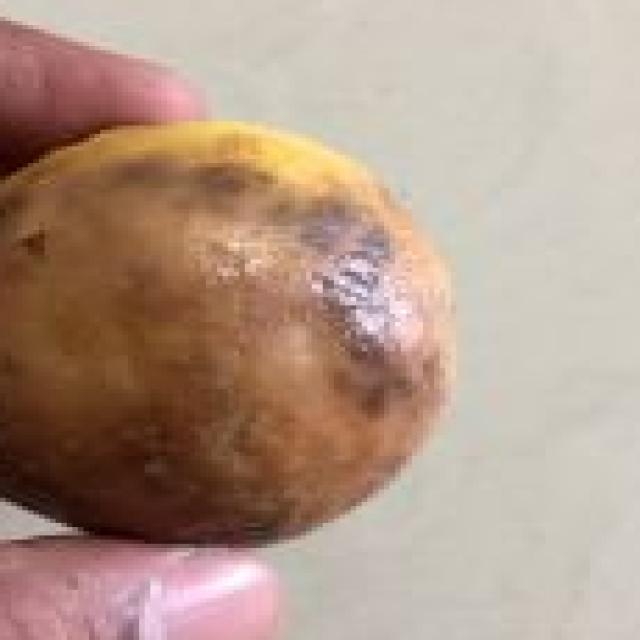Bad_Lime-0-1-day: (0, 121, 462, 552)
